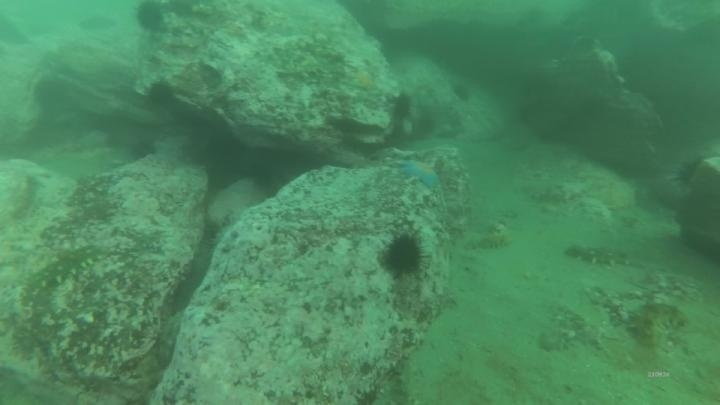echinus: (380, 230, 427, 279), (132, 2, 168, 35), (143, 78, 178, 111), (388, 91, 415, 124), (450, 80, 474, 104)
holothurian: (19, 243, 100, 301), (628, 300, 689, 351), (563, 239, 647, 271), (460, 228, 514, 253)
starfish: (397, 157, 443, 191), (346, 66, 382, 94)
